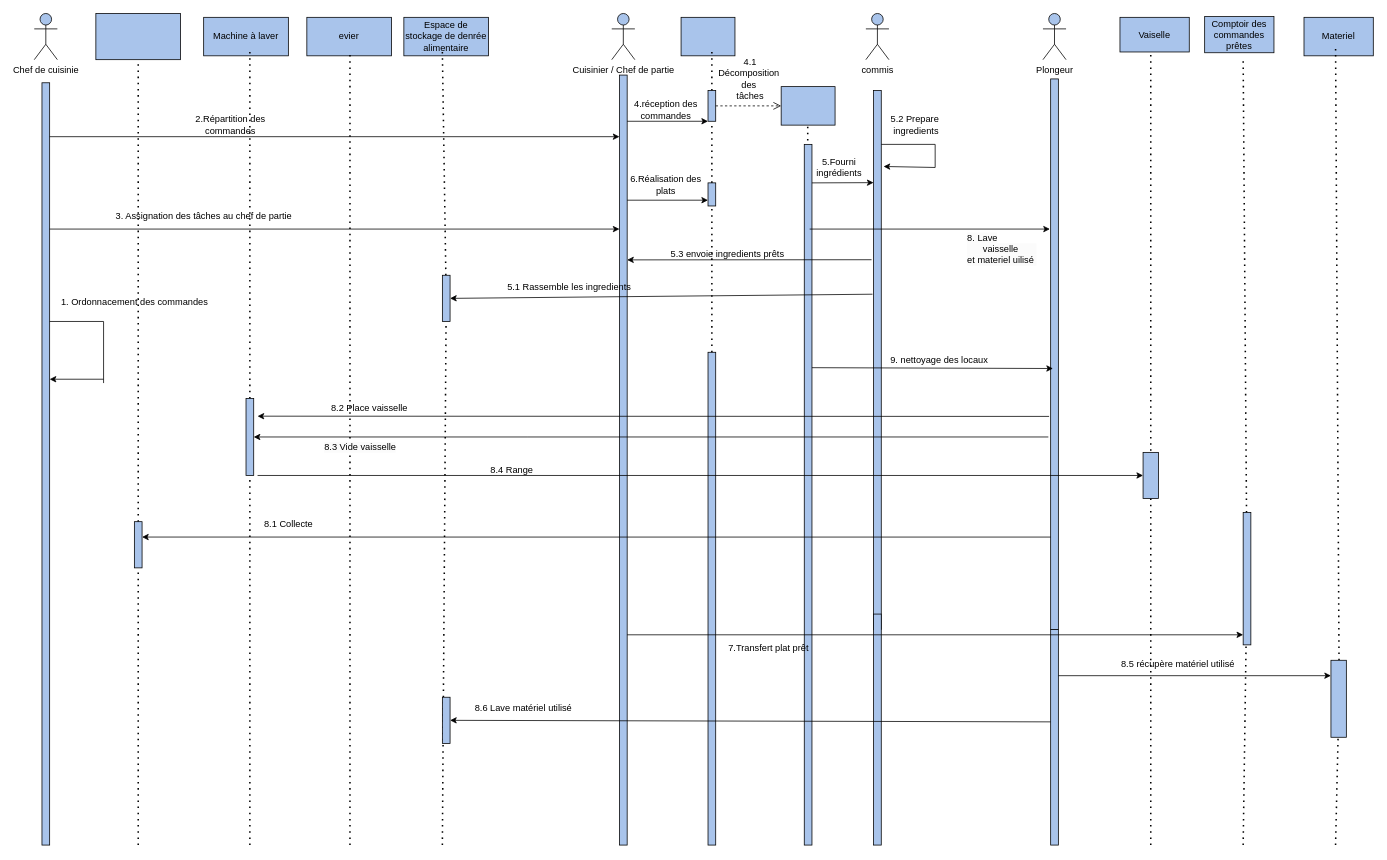
Some shapes in this 1387 by 860 pixel diagram are drawn without their labels. The centre of each missing label's shape, as x and y in pixels:
commandes: point (707, 36)
stock plats sales: point (138, 36)
Tâche: point (807, 105)
